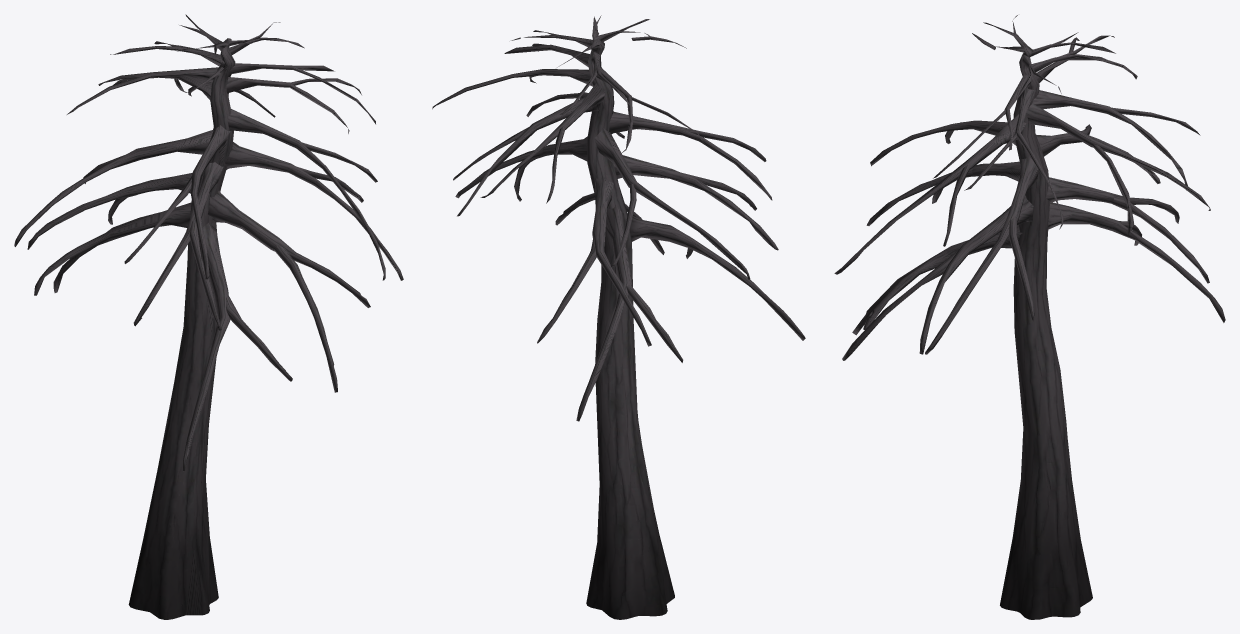
File: DeadTree_4.gltf
3 views of the same model, side by side, from view 1: azimuth 30°, elevation 25°; view 2: azimuth 150°, elevation 25°; view 3: azimuth 270°, elevation 25° (orthographic). The views are drawn at different scales.
Parts seen in each view (by area): view 1: DeadTree_4; view 2: DeadTree_4; view 3: DeadTree_4.
Boxes of the visible parts, box(x1,y1,x2,y2) form: DeadTree_4: box(14, 14, 403, 619); DeadTree_4: box(432, 15, 805, 619); DeadTree_4: box(834, 15, 1225, 619).
Size of the model in its own units: 7.91 by 12.75 by 7.73.
Materials: 1 (1 with a texture image).
